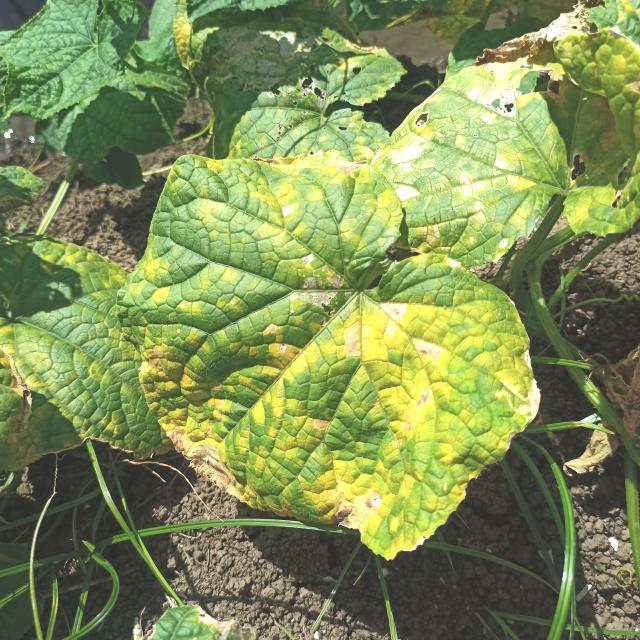disease_cucumber: (132, 149, 536, 556), (343, 73, 563, 262)
